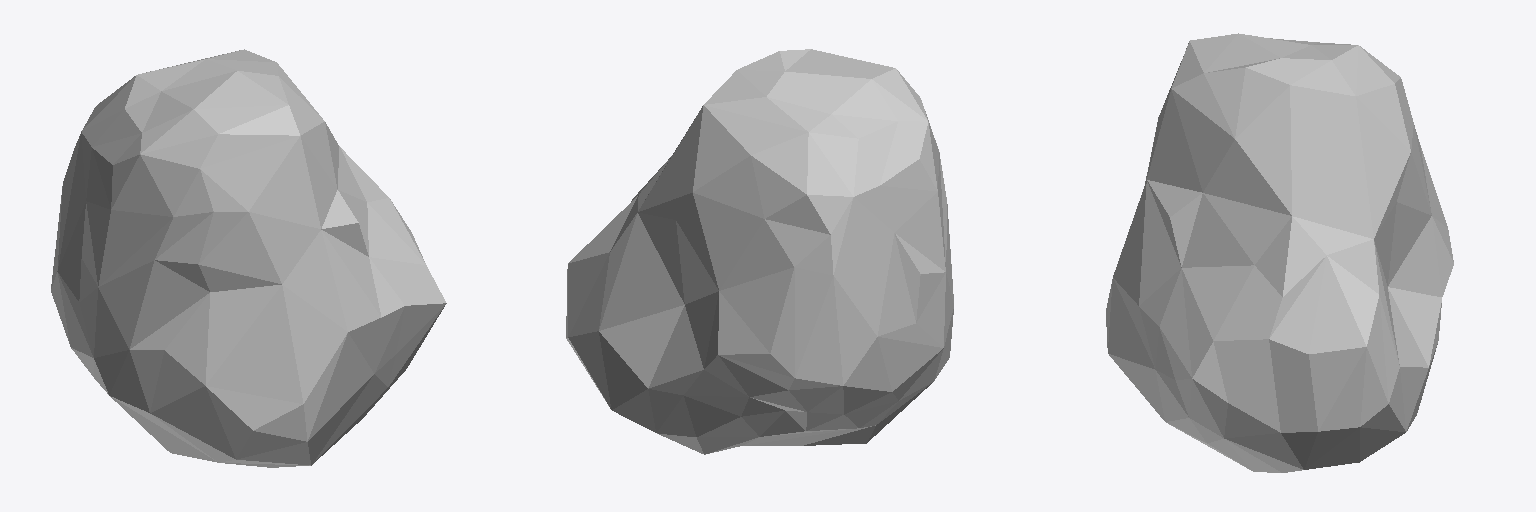
The model's file is rock.obj.
The picture shows the model from 3 angles: view 1: azimuth 30°, elevation 25°; view 2: azimuth 150°, elevation 25°; view 3: azimuth 270°, elevation 25°; orthographic projection.
Visible parts, largest first — view 1: rock.025; view 2: rock.025; view 3: rock.025.
Boxes of the visible parts, x1,y1,x2,y2 form: rock.025: [51, 49, 446, 467]; rock.025: [566, 49, 953, 454]; rock.025: [1106, 33, 1453, 472].
Size of the model in its own units: 1.14 by 1.24 by 1.02.